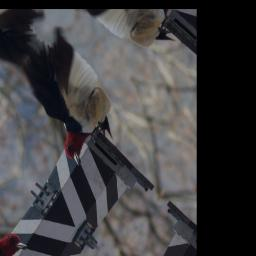Woodpecker: (1, 22, 134, 179)
